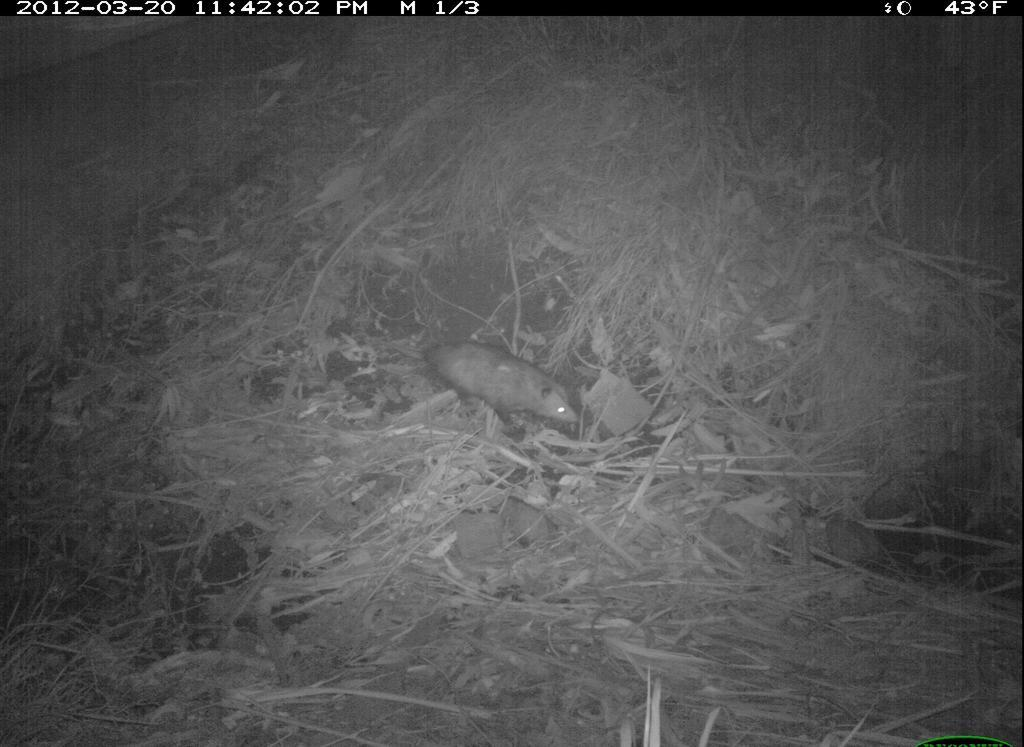opossum: (368, 327, 589, 445)
